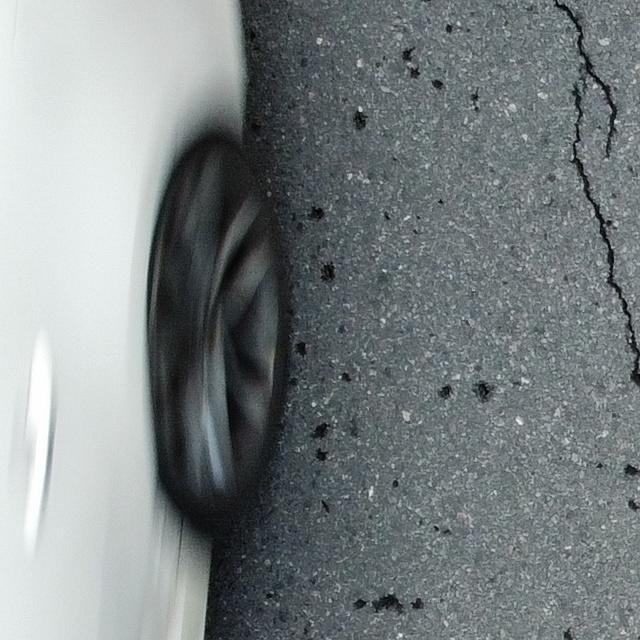LongitudinalCrack: (552, 2, 640, 387)
